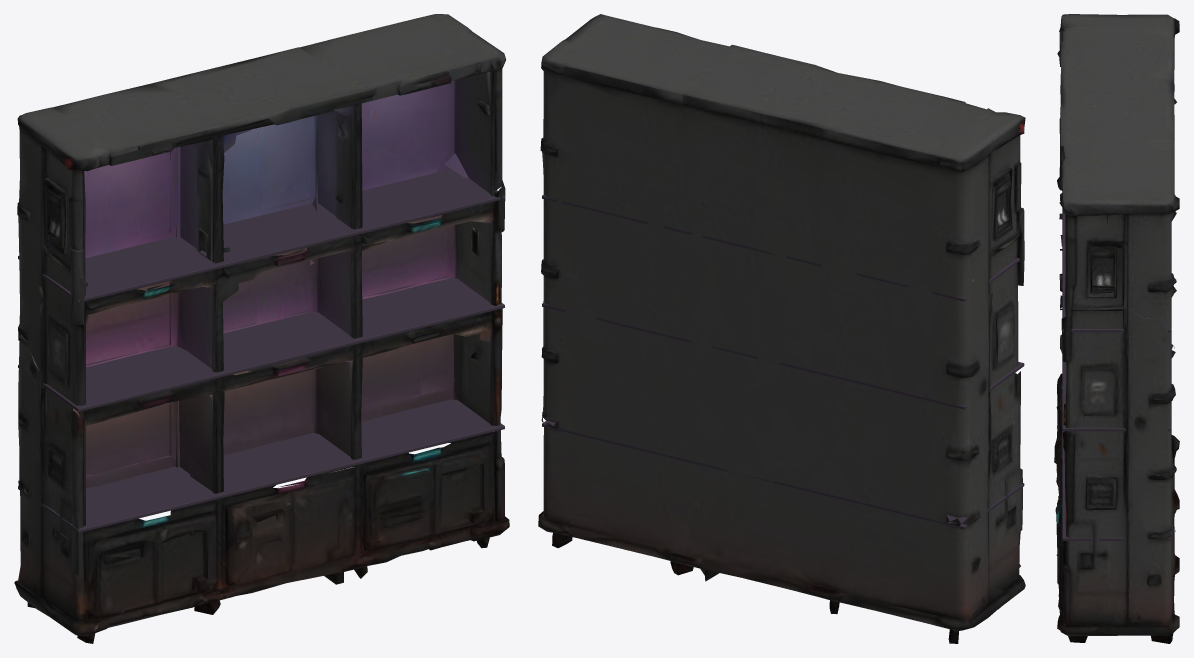
File: 06_showcase_zone.glb
The picture shows the model from 3 angles, left to right: view 1: azimuth 30°, elevation 25°; view 2: azimuth 150°, elevation 25°; view 3: azimuth 270°, elevation 25°; orthographic projection. The views are drawn at different scales.
Visible parts, largest first — view 1: SHOWCASE_EMPTY_CABINET, LOCAL_showcase_solid_shelf.001, LOCAL_showcase_solid_shelf.002, LOCAL_showcase_solid_shelf; view 2: SHOWCASE_EMPTY_CABINET, LOCAL_showcase_solid_shelf, LOCAL_showcase_solid_shelf.001, LOCAL_showcase_solid_shelf.002; view 3: SHOWCASE_EMPTY_CABINET, LOCAL_showcase_solid_shelf.002, LOCAL_showcase_solid_shelf, LOCAL_showcase_solid_shelf.001.
Part boxes in pixels (bbox=[...]): SHOWCASE_EMPTY_CABINET: bbox=[14, 14, 509, 643]; LOCAL_showcase_solid_shelf.001: bbox=[18, 276, 504, 411]; LOCAL_showcase_solid_shelf.002: bbox=[18, 169, 504, 302]; LOCAL_showcase_solid_shelf: bbox=[18, 399, 504, 532]; SHOWCASE_EMPTY_CABINET: bbox=[538, 14, 1025, 643]; LOCAL_showcase_solid_shelf: bbox=[542, 420, 1024, 529]; LOCAL_showcase_solid_shelf.001: bbox=[542, 302, 1024, 409]; LOCAL_showcase_solid_shelf.002: bbox=[542, 194, 1019, 301]; SHOWCASE_EMPTY_CABINET: bbox=[1054, 14, 1179, 643]; LOCAL_showcase_solid_shelf.002: bbox=[1062, 152, 1171, 332]; LOCAL_showcase_solid_shelf: bbox=[1062, 431, 1171, 540]; LOCAL_showcase_solid_shelf.001: bbox=[1062, 361, 1171, 431].
Bounding box in the file's own units: 2.2 × 2.35 × 0.6.
Materials: 2 (1 with a texture image).
